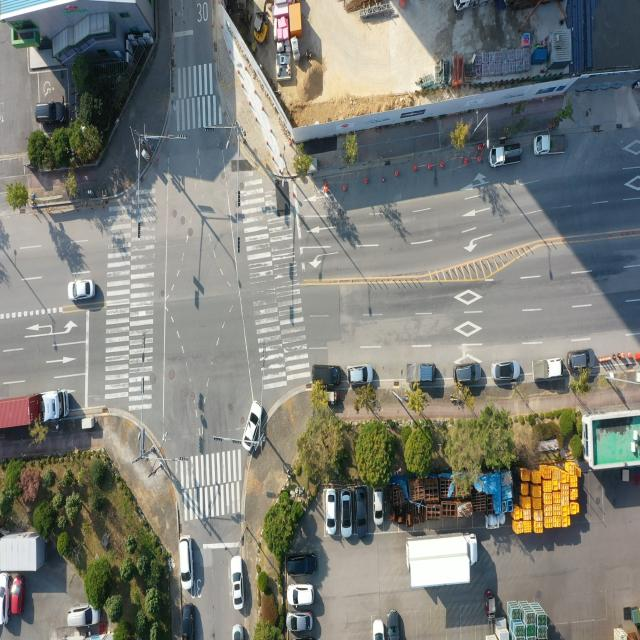car: (244, 400, 264, 450), (35, 100, 68, 126), (68, 606, 100, 632), (180, 537, 193, 590), (232, 558, 245, 610), (287, 555, 316, 578), (342, 491, 356, 538), (492, 360, 521, 382), (455, 363, 482, 386), (567, 349, 594, 371), (11, 578, 27, 614), (70, 280, 96, 302), (356, 489, 368, 536), (348, 363, 373, 385), (325, 491, 337, 536), (290, 586, 314, 608), (290, 615, 314, 635), (0, 573, 9, 626), (182, 602, 193, 640), (386, 611, 398, 640), (374, 490, 384, 524), (374, 620, 386, 640), (233, 624, 244, 640)
large_truck: (0, 391, 67, 432)
medium_truck: (406, 534, 479, 590)
small_truck: (403, 360, 437, 384), (534, 356, 566, 381), (491, 143, 524, 167), (314, 363, 344, 387), (536, 134, 568, 156)
